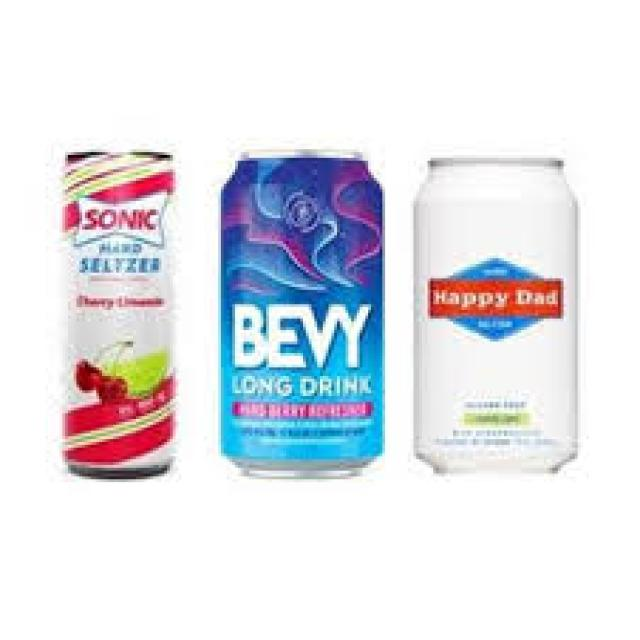Cans: (212, 144, 391, 485), (408, 149, 589, 482), (54, 146, 181, 485)
